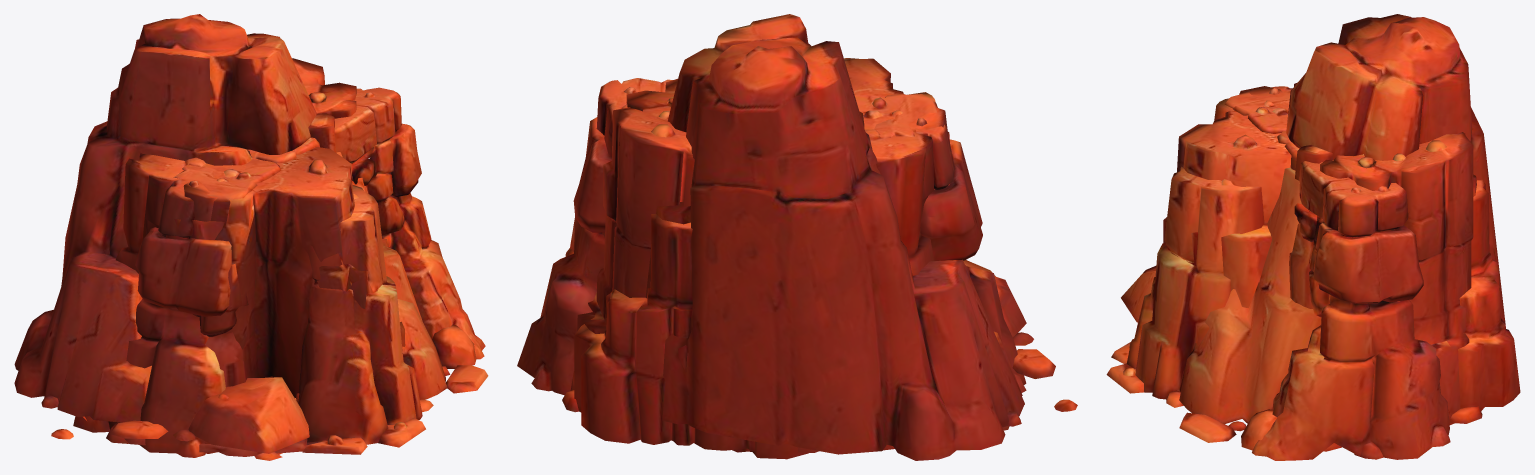
Rendered from mars_rocks.glb.
3 views of the same model, side by side, from view 1: azimuth 30°, elevation 25°; view 2: azimuth 150°, elevation 25°; view 3: azimuth 270°, elevation 25° (orthographic). The views are drawn at different scales.
Parts seen in each view (by area): view 1: rock_big, arch, mesa, spires; view 2: rock_big, mesa, arch, spires; view 3: rock_big, arch, mesa, spires.
Boxes of the visible parts, box(x1,y1,x2,y2) form: rock_big: box(14, 14, 488, 453); arch: box(51, 87, 485, 457); mesa: box(83, 58, 378, 454); spires: box(124, 185, 433, 460); rock_big: box(645, 14, 1055, 460); mesa: box(577, 58, 947, 459); arch: box(517, 78, 1077, 430); spires: box(562, 131, 1026, 452); rock_big: box(1121, 14, 1505, 451); arch: box(1224, 86, 1450, 460); mesa: box(1163, 82, 1473, 424); spires: box(1106, 166, 1520, 423).
Bounding box in the file's own units: 0.3716 × 0.2729 × 0.314.
Materials: 1 (1 with a texture image).
